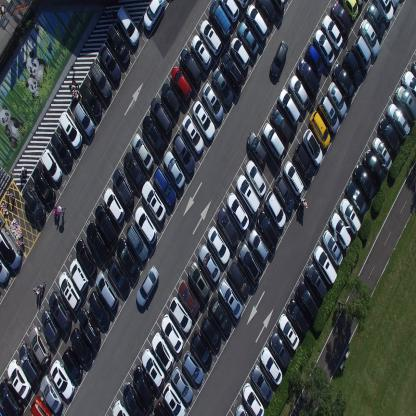car: (94, 204, 119, 248), (141, 179, 166, 222), (116, 235, 139, 280), (218, 277, 242, 320), (116, 5, 140, 48), (136, 264, 159, 308), (107, 22, 130, 66), (86, 220, 110, 262), (236, 172, 260, 214), (160, 312, 184, 354), (141, 347, 165, 389), (58, 270, 82, 312), (7, 358, 31, 400), (50, 358, 74, 400), (39, 373, 63, 415), (192, 99, 216, 141), (171, 130, 194, 173), (208, 295, 232, 336), (314, 244, 338, 285), (216, 206, 239, 248), (238, 242, 261, 284), (226, 190, 249, 232), (28, 324, 51, 366), (98, 42, 121, 84), (206, 225, 230, 265), (125, 223, 149, 263), (95, 270, 119, 310), (134, 205, 158, 245), (69, 326, 93, 366), (22, 184, 46, 224), (32, 166, 56, 206), (58, 110, 82, 150), (286, 297, 310, 337), (250, 363, 274, 403), (0, 227, 22, 270), (108, 255, 131, 296), (153, 165, 176, 206), (262, 121, 285, 162), (18, 343, 41, 384), (142, 115, 165, 156), (179, 47, 202, 88), (296, 58, 320, 97), (48, 291, 72, 330), (257, 209, 279, 251), (132, 364, 154, 406), (202, 82, 224, 124), (78, 308, 101, 348), (151, 332, 174, 372), (89, 59, 112, 99), (295, 280, 318, 320), (260, 345, 283, 385), (87, 290, 111, 328), (198, 243, 220, 284), (112, 168, 134, 209), (164, 149, 186, 190), (182, 114, 204, 155), (177, 280, 200, 319), (79, 80, 102, 119), (208, 0, 231, 39), (386, 103, 410, 140), (395, 84, 416, 126), (188, 260, 210, 300), (132, 132, 154, 172), (278, 88, 300, 128), (150, 95, 172, 135), (317, 94, 339, 134), (354, 162, 376, 202), (340, 197, 362, 237), (226, 259, 249, 297), (50, 130, 73, 168), (220, 52, 243, 90), (332, 63, 355, 101), (321, 229, 344, 267), (265, 189, 286, 230), (75, 239, 97, 278), (190, 329, 212, 368), (273, 175, 295, 214), (171, 366, 193, 405), (321, 13, 343, 52), (346, 180, 368, 219), (330, 211, 352, 250), (169, 296, 192, 333), (302, 127, 323, 167), (310, 108, 330, 150), (359, 18, 380, 58), (103, 186, 125, 224), (244, 159, 266, 197), (270, 107, 292, 145), (0, 378, 22, 416), (170, 66, 192, 104), (190, 33, 212, 71), (200, 20, 222, 58), (246, 4, 268, 42), (238, 21, 260, 59), (212, 67, 234, 105), (312, 28, 334, 66), (379, 116, 401, 154), (278, 312, 300, 350), (363, 148, 386, 184), (304, 262, 327, 298), (162, 381, 186, 415), (123, 150, 145, 187), (73, 101, 95, 138), (269, 332, 291, 369), (294, 142, 314, 182), (365, 1, 386, 39), (331, 0, 352, 38), (200, 314, 222, 350), (182, 349, 204, 385), (122, 382, 146, 415), (40, 147, 62, 183), (160, 81, 181, 118), (248, 228, 270, 263), (247, 130, 268, 166), (270, 38, 288, 80), (284, 160, 304, 197), (289, 74, 309, 111), (327, 81, 347, 118), (242, 382, 264, 415), (342, 49, 362, 85), (372, 136, 392, 172), (142, 0, 165, 31), (41, 308, 60, 344), (305, 42, 324, 78), (352, 35, 371, 71), (69, 258, 89, 292), (230, 37, 250, 70), (373, 0, 395, 25), (30, 394, 54, 416), (219, 0, 239, 23), (256, 0, 276, 23), (402, 70, 416, 102), (338, 0, 359, 20), (153, 400, 172, 416), (0, 258, 11, 285), (112, 400, 130, 416), (235, 403, 250, 415), (270, 0, 286, 11), (234, 0, 249, 10), (390, 0, 400, 9), (354, 0, 366, 7), (412, 56, 416, 76)
